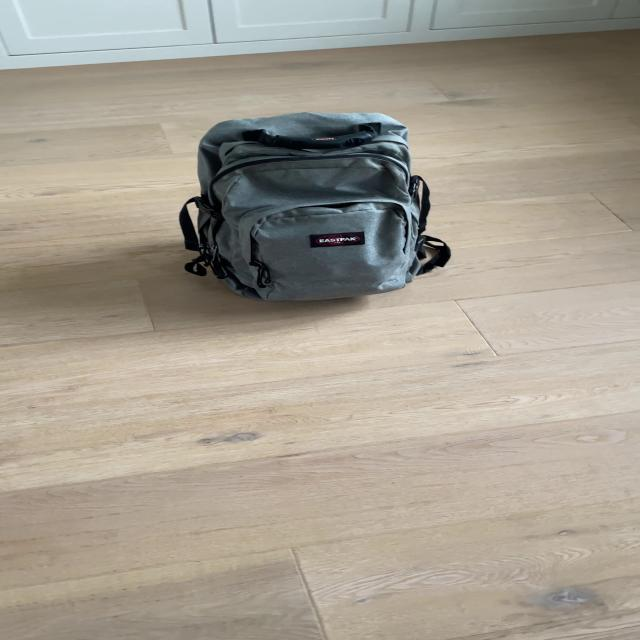backpack: (172, 102, 452, 308)
